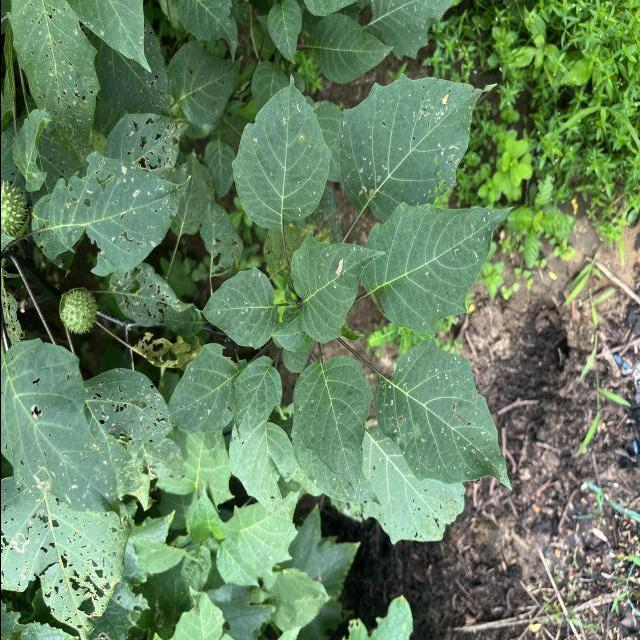Datura metal linn: (372, 336, 514, 494), (358, 200, 514, 338), (337, 72, 497, 206), (229, 72, 332, 234), (288, 354, 374, 502), (288, 229, 387, 346), (190, 266, 278, 352), (230, 354, 282, 442)
